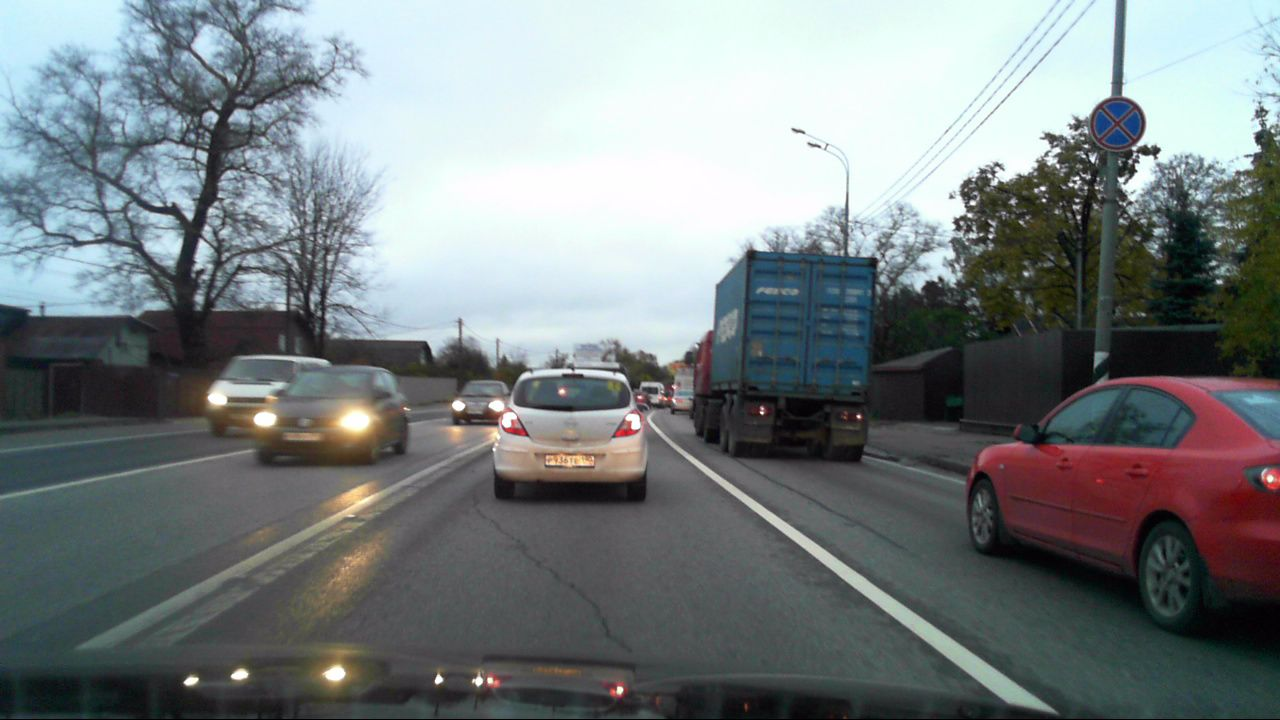No Parking: (1089, 96, 1145, 149)
